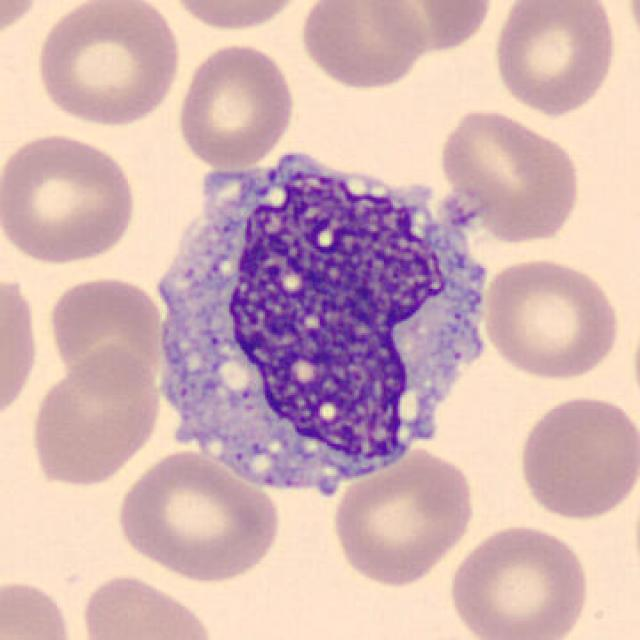Monocyte: (142, 132, 503, 510)
RBC: (112, 446, 283, 585), (329, 442, 478, 589), (436, 106, 583, 245), (27, 344, 165, 490), (0, 129, 142, 268), (32, 0, 185, 129), (478, 254, 622, 382), (444, 520, 594, 640), (172, 39, 297, 171), (514, 392, 638, 524), (489, 0, 622, 118), (45, 272, 167, 396), (295, 0, 430, 93), (76, 571, 218, 640), (359, 0, 496, 55), (0, 270, 43, 430), (0, 575, 80, 640), (162, 0, 313, 33), (0, 0, 44, 46)
